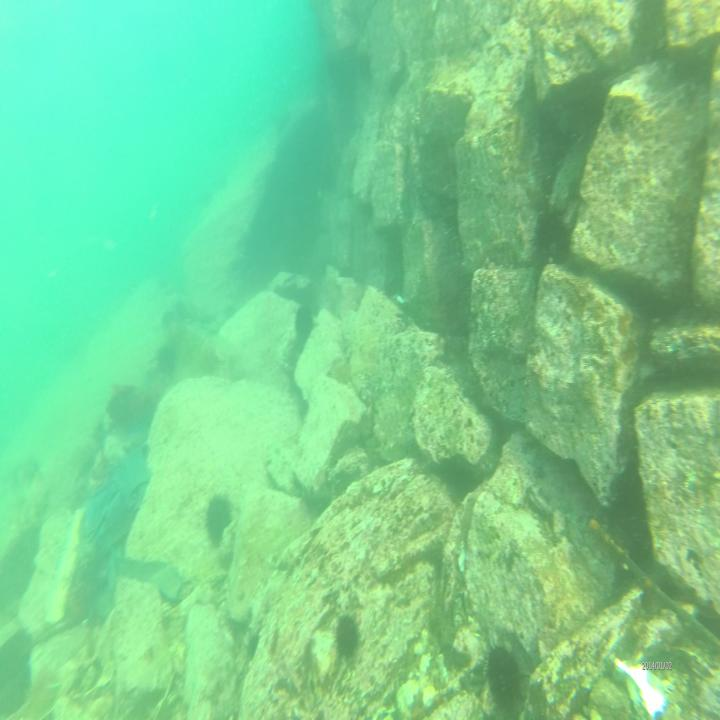echinus: (481, 638, 525, 713), (534, 204, 569, 266), (204, 491, 233, 545), (336, 611, 359, 659), (294, 304, 316, 341)
